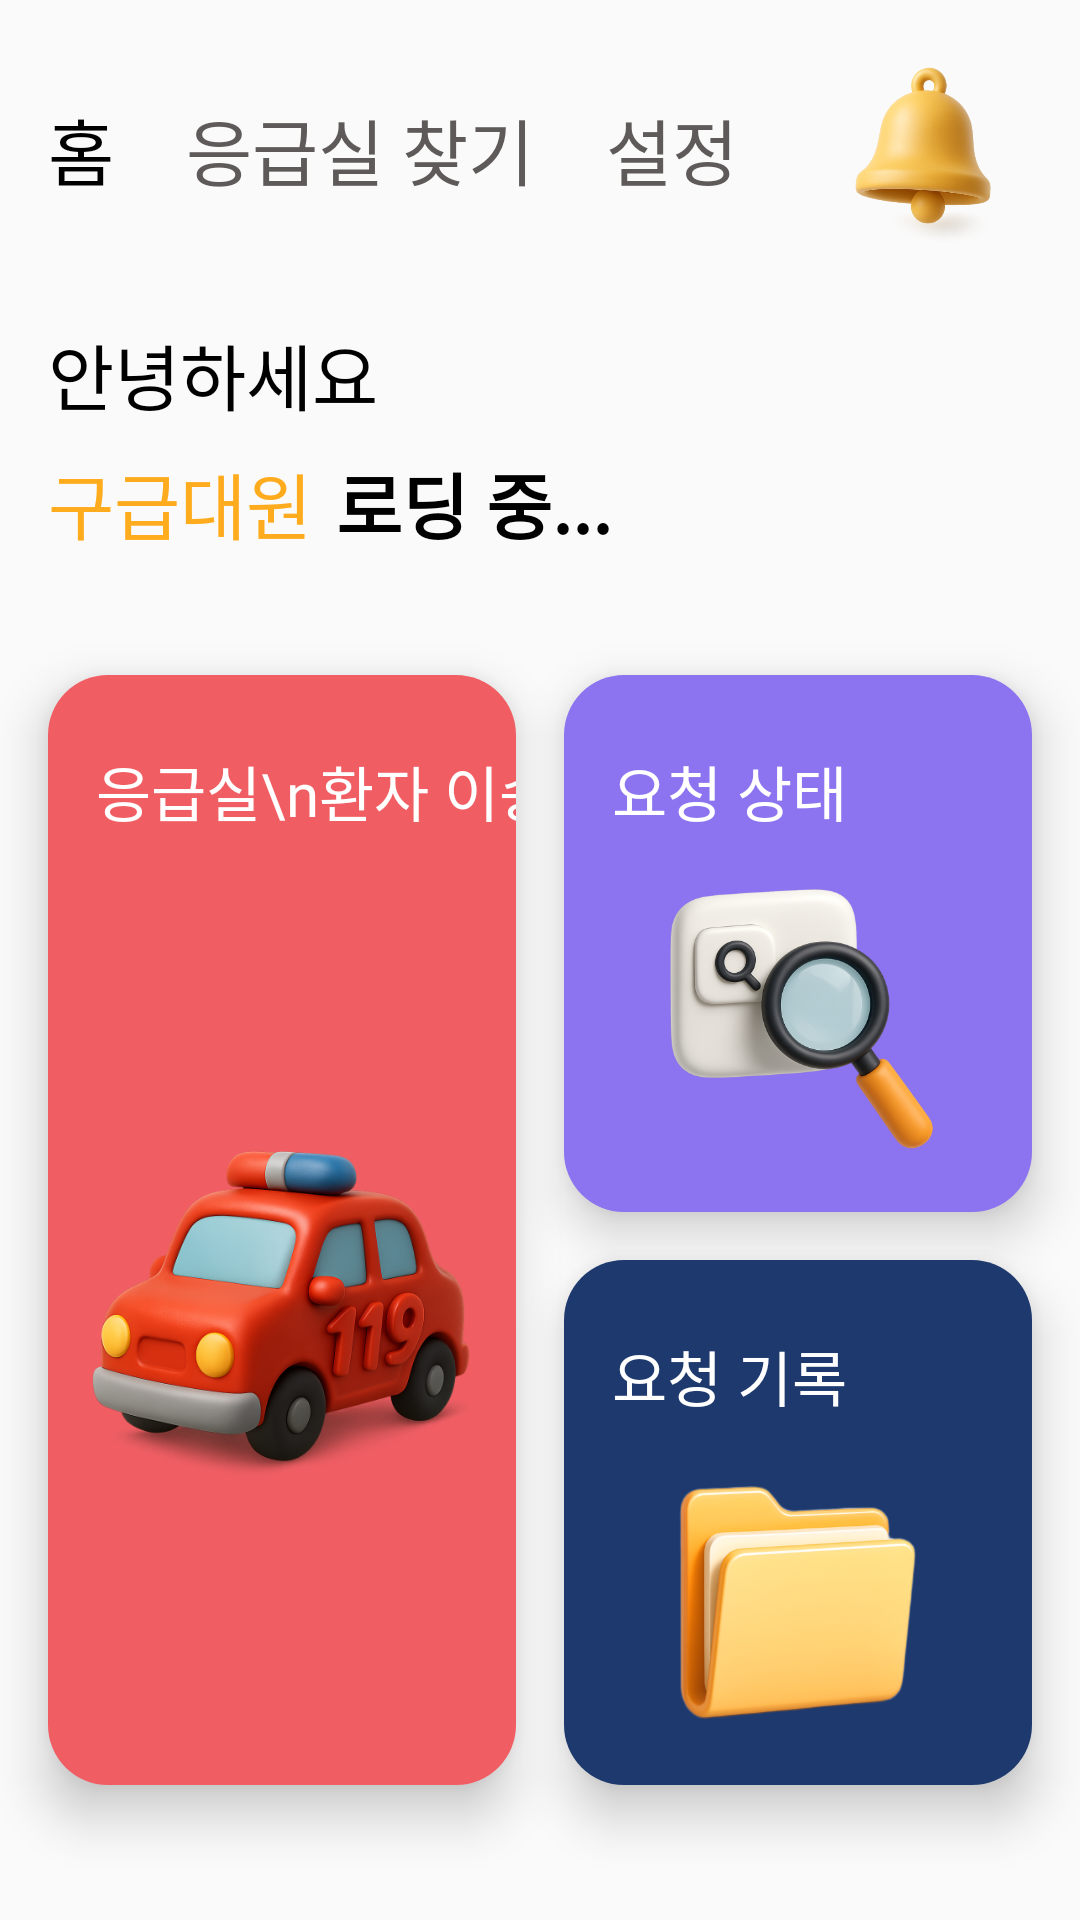

Screen size 1080×1920. Icon name, then its center in pixels as [x,y]:
docsicon: [798,1602]
notiicon: [923,149]
